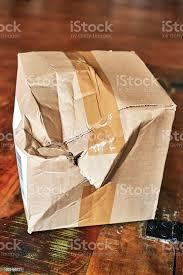damage_box: (11, 48, 177, 234)
